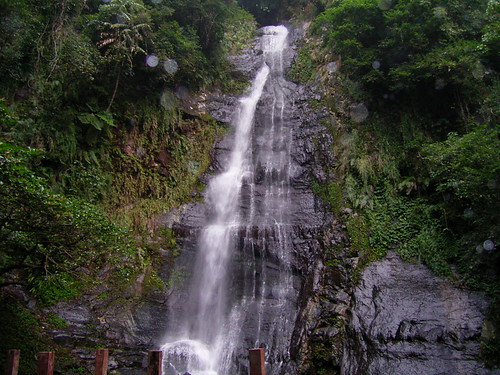wufengciWaterfall: (146, 14, 333, 371)
